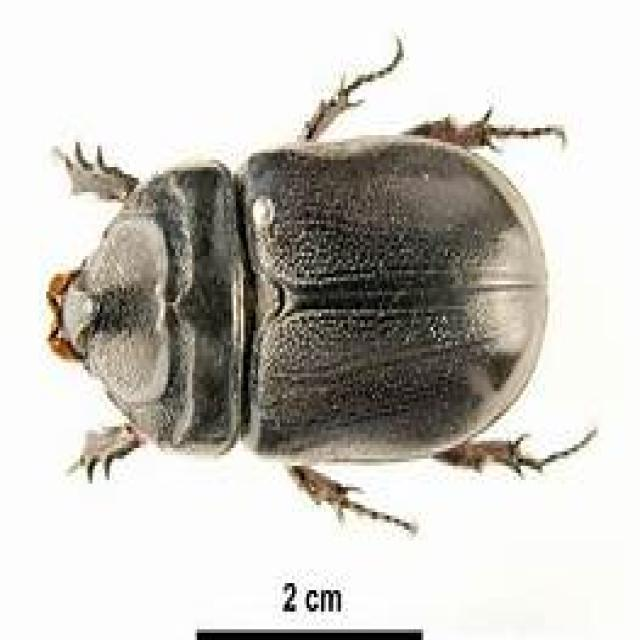Rhino-beetle: (14, 92, 612, 554)
